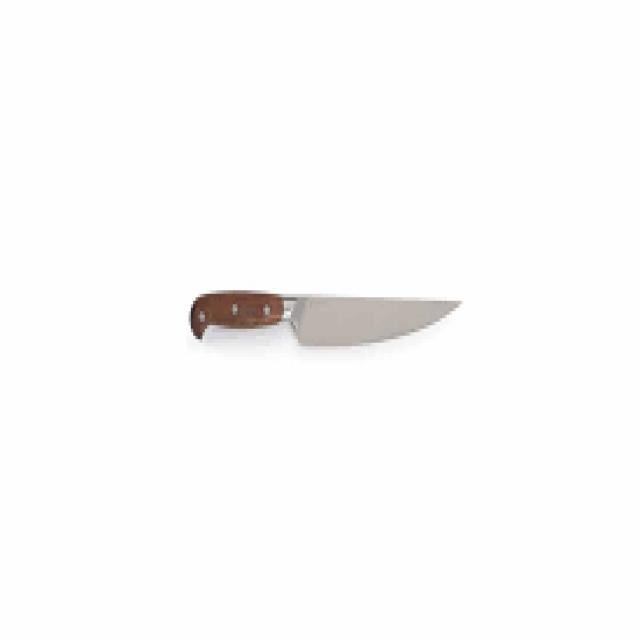Knife: (188, 287, 461, 346)
